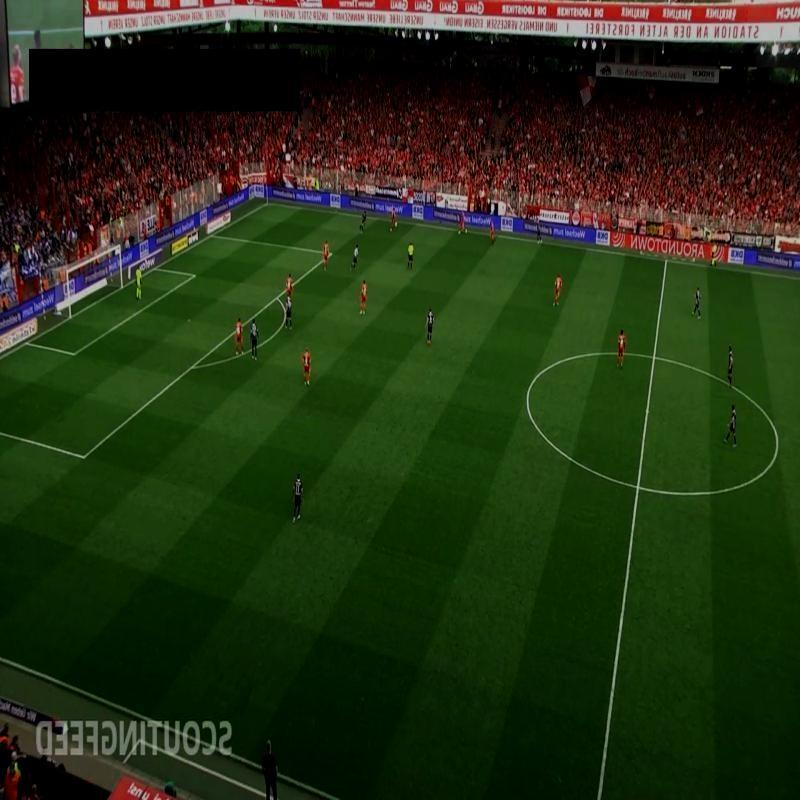1: (260, 197, 274, 211)
10: (270, 290, 284, 304)
11: (184, 360, 198, 374)
12: (76, 450, 90, 465)
13: (658, 253, 672, 266)
14: (647, 350, 661, 364)
15: (631, 479, 645, 493)
2: (204, 228, 217, 242)
3: (148, 262, 162, 276)
4: (19, 337, 33, 351)
7: (188, 268, 202, 282)
8: (68, 347, 82, 361)
9: (324, 247, 338, 261)
c: (520, 378, 540, 396), (768, 439, 782, 453)
